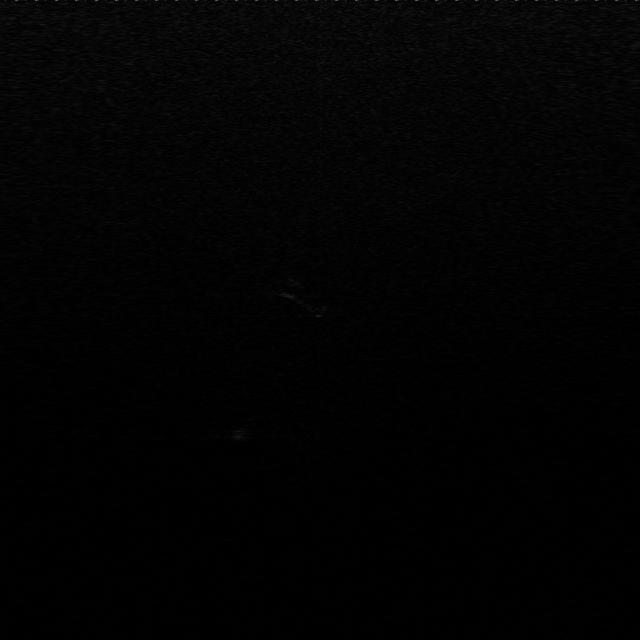ball: (218, 419, 258, 446)
tyre: (270, 275, 334, 326)
